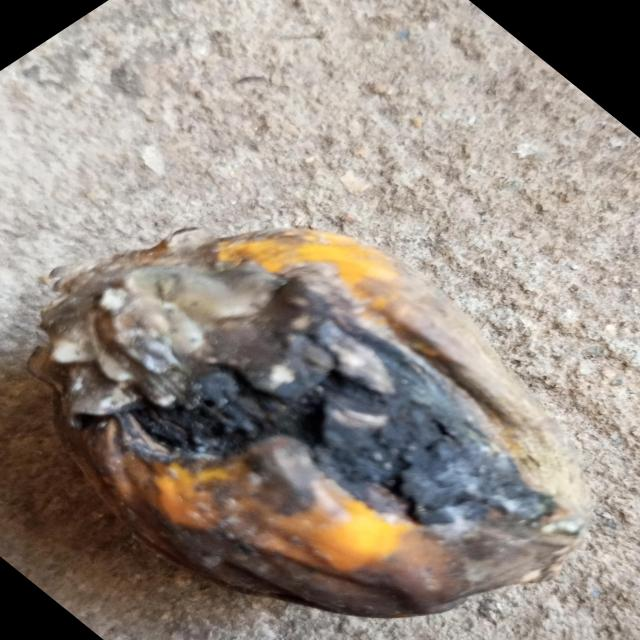damaged: (26, 228, 595, 621)
